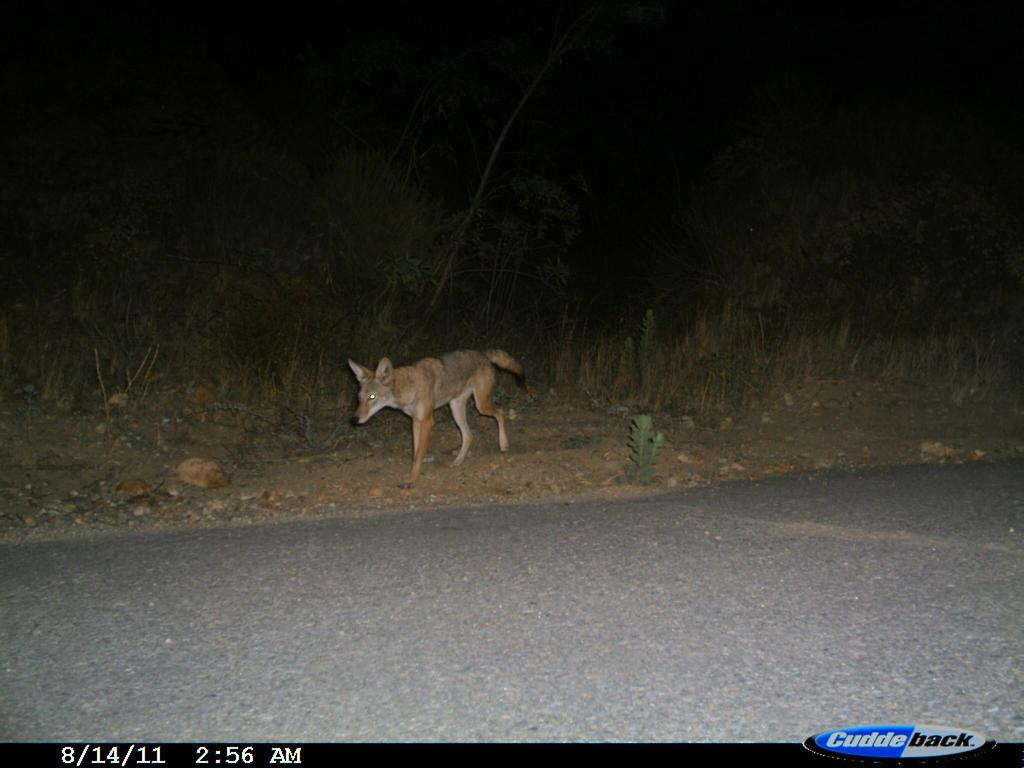coyote: (340, 337, 542, 486)
